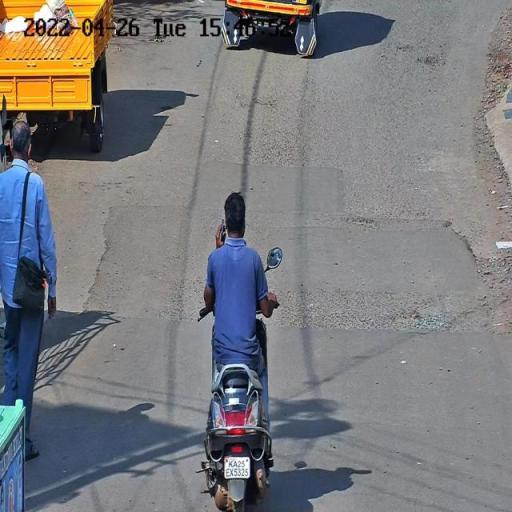using mobile: (214, 210, 226, 248)
